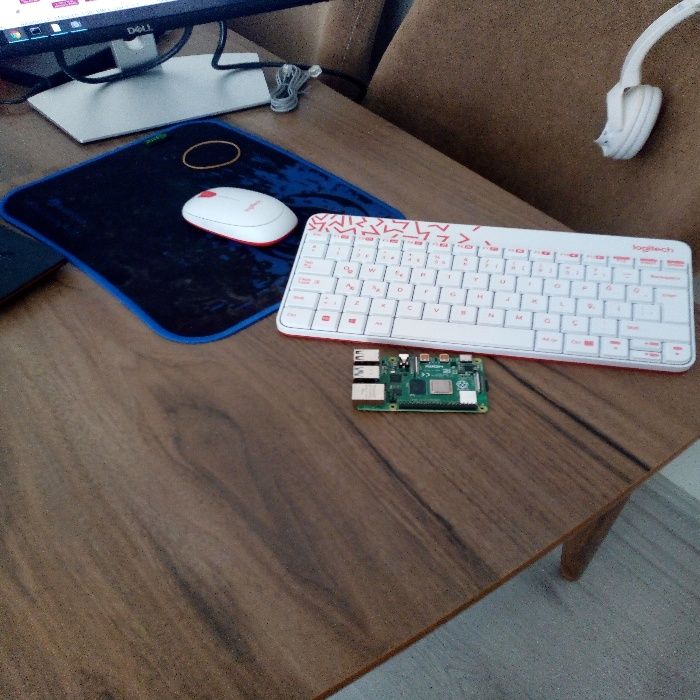raspberry: (337, 342, 510, 422)
